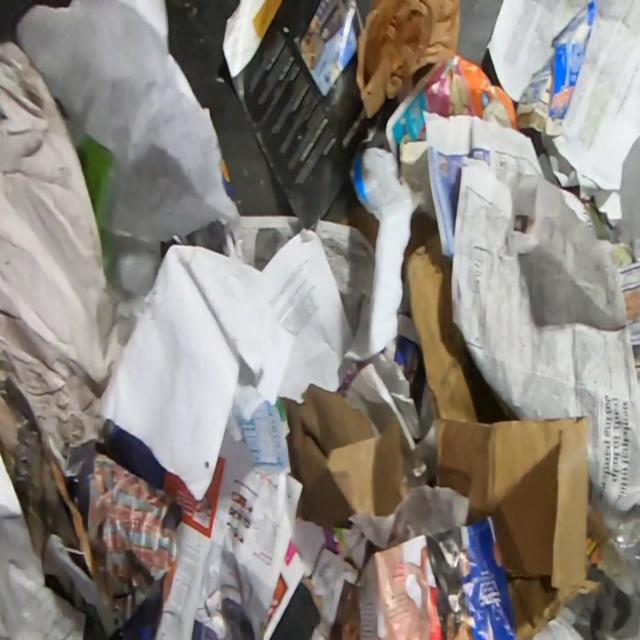cardboard: (403, 210, 603, 640), (221, 0, 399, 230), (276, 382, 412, 531), (342, 148, 412, 362), (516, 0, 597, 138), (457, 56, 520, 132), (339, 202, 379, 254)
soft_plastic: (600, 504, 640, 598)
